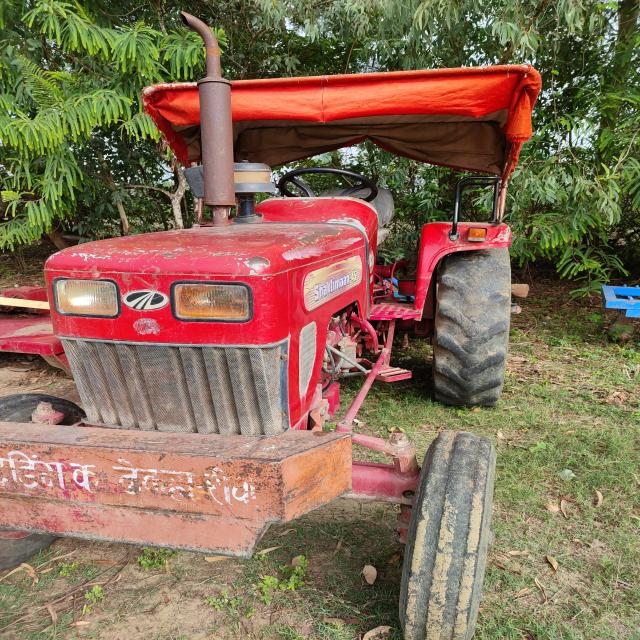tractor: (0, 8, 564, 640)
